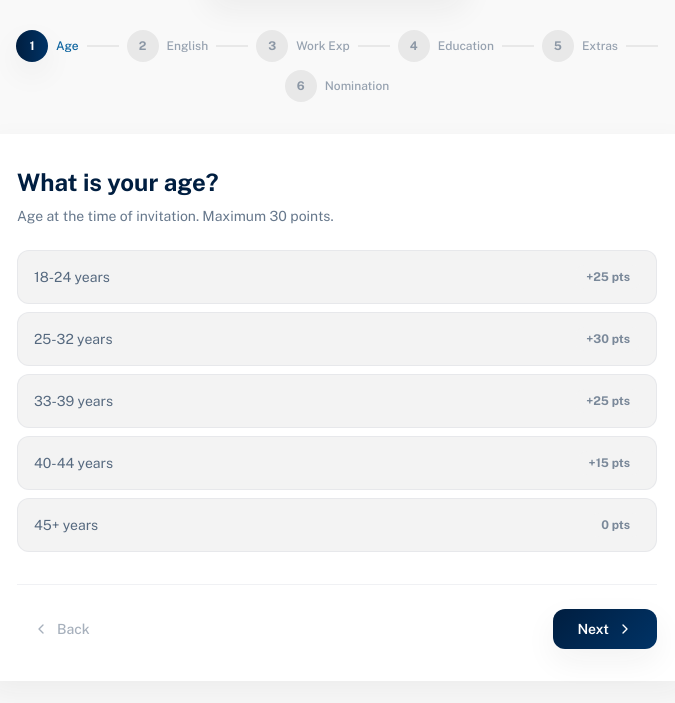
Test case: PointsCalculatorPage › shows work experience step with two option groups
(page scrolled)
# Go to step 3 (Work Experience)
Click the button "Next" at (605, 629), box [553,609,657,649]
(page scrolled)
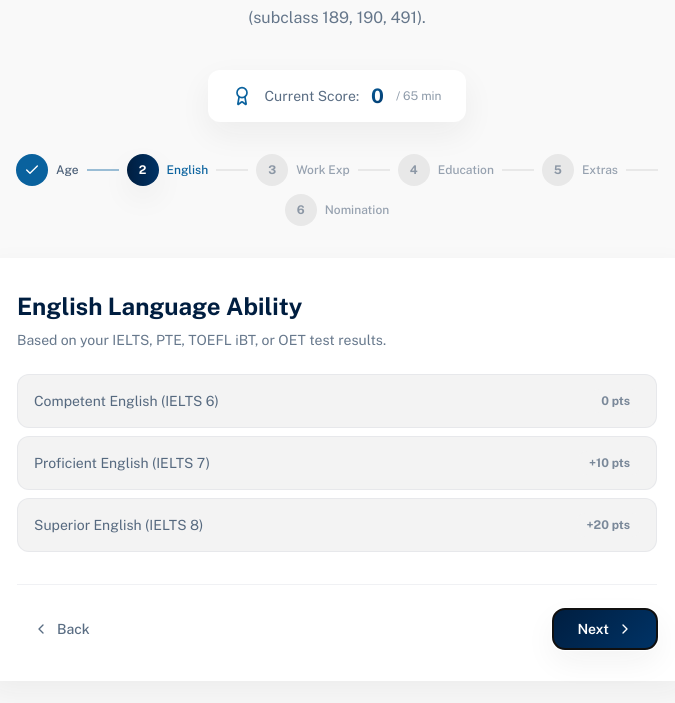
Click the button "Next" at (605, 629), box [553,609,657,649]
(page scrolled)
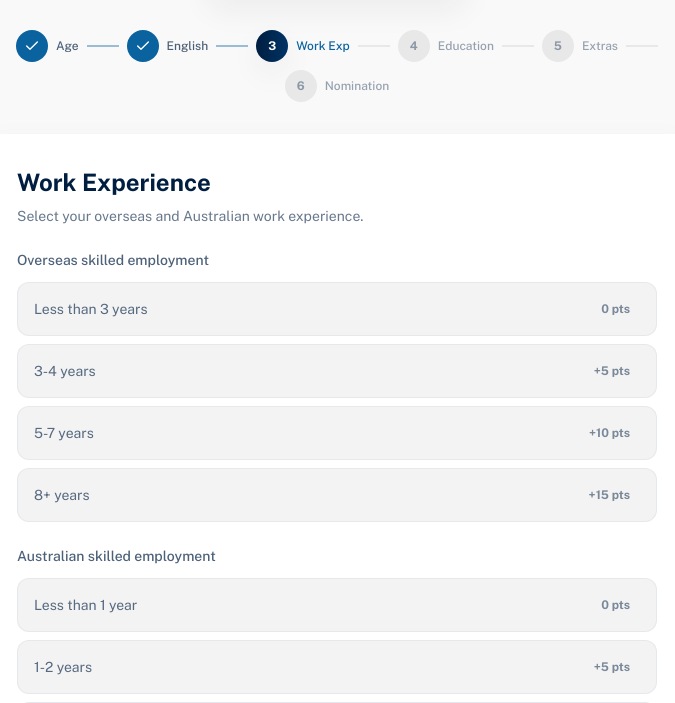
expect the heading "Work Experience" is shown: met, box [17,168,211,196]
expect the heading "Overseas skilled employment" is shown: met, box [17,252,209,268]
expect the heading "Australian skilled employment" is shown: met, box [17,548,216,564]
